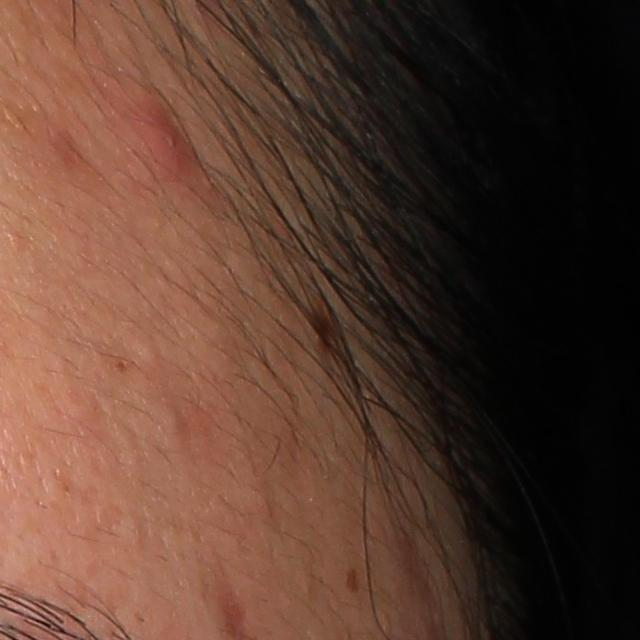comedo: (157, 405, 190, 434)
papule: (116, 73, 188, 171)
